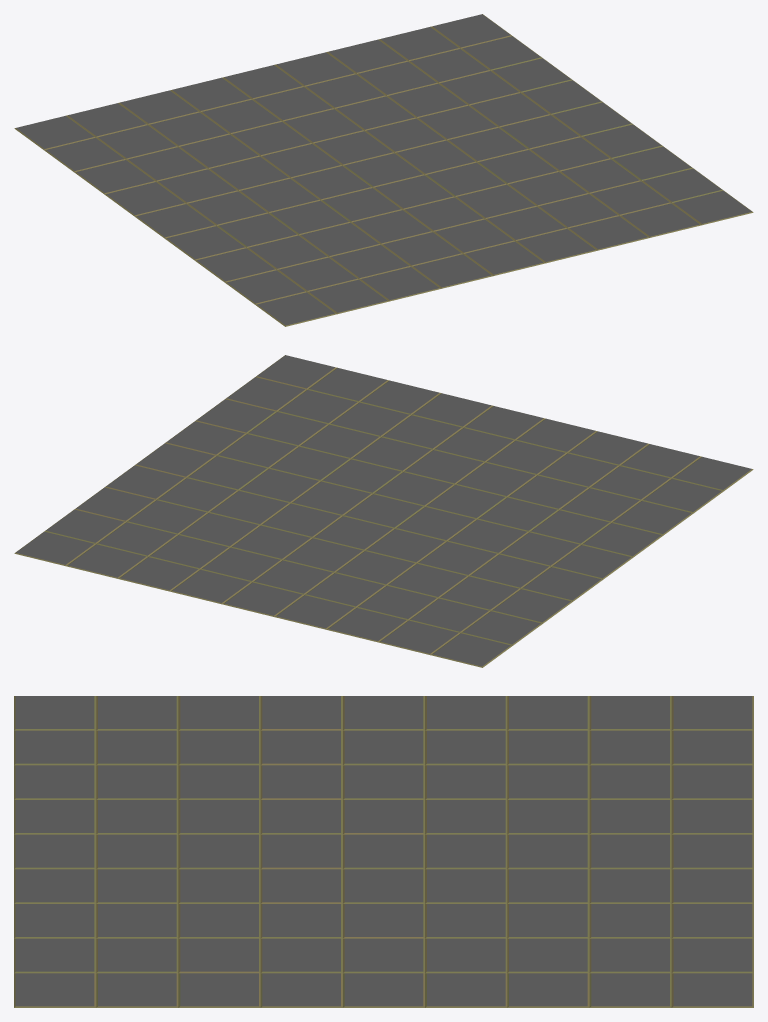
File: Office_Floortile.fbx
3 renders of one model, top to bottom at view 1: azimuth 30°, elevation 25°; view 2: azimuth 150°, elevation 25°; view 3: azimuth 270°, elevation 25°, orthographic. The views are drawn at different scales.
Parts seen in each view (by area): view 1: Office_Floortile; view 2: Office_Floortile; view 3: Office_Floortile.
Boxes of the visible parts, x1,y1,x2,y2 form: Office_Floortile: (14,14,753,326); Office_Floortile: (14,355,753,667); Office_Floortile: (14,696,753,1007).
Size of the model in its own units: 489 by 0.6001 by 490.
